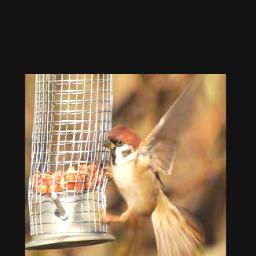Sparrow: (97, 74, 207, 256)
